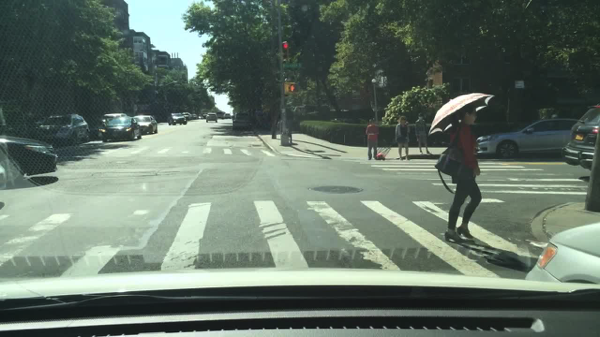car: (523, 220, 599, 283), (474, 117, 583, 159), (0, 134, 59, 181), (563, 102, 599, 174), (38, 114, 90, 147), (103, 115, 140, 143), (133, 115, 157, 134), (232, 111, 253, 131), (100, 113, 126, 129), (168, 113, 187, 126), (206, 111, 218, 124), (182, 112, 193, 120), (216, 111, 223, 119), (223, 114, 232, 119), (198, 114, 205, 120)
person: (429, 93, 494, 242), (394, 116, 411, 161), (414, 114, 431, 156), (365, 119, 379, 160)
traffic light: (285, 81, 301, 96), (281, 41, 289, 59)
traffic sign: (283, 64, 303, 70)
